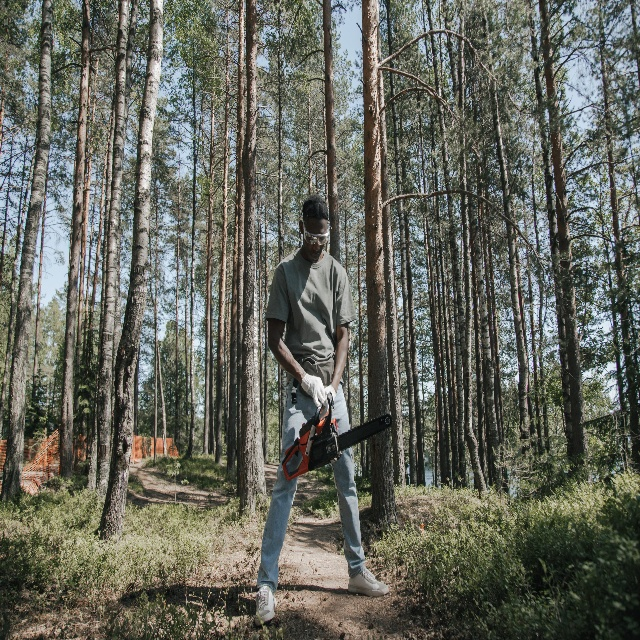Gafas: (302, 222, 329, 245)
Guantes: (301, 373, 327, 407), (318, 384, 336, 422)
